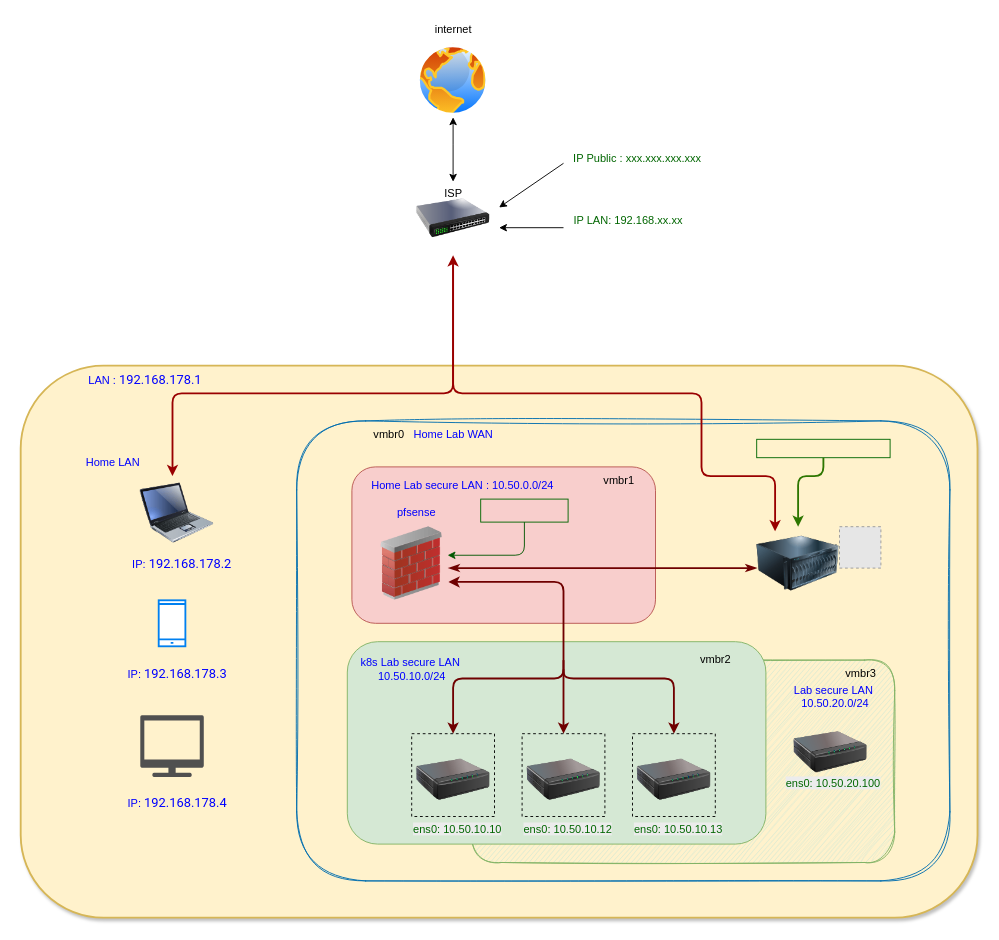
The diagram is 999 pixels wide and 940 high, and some of its shapes have lost their labels. Grey dashed boxes stand in for pictures. Each missing label, with the centre of its shape:
"ens0: 10.50.0.1" goes at point 524,510.
"ens0: 192.168.178.51" goes at point 823,448.
